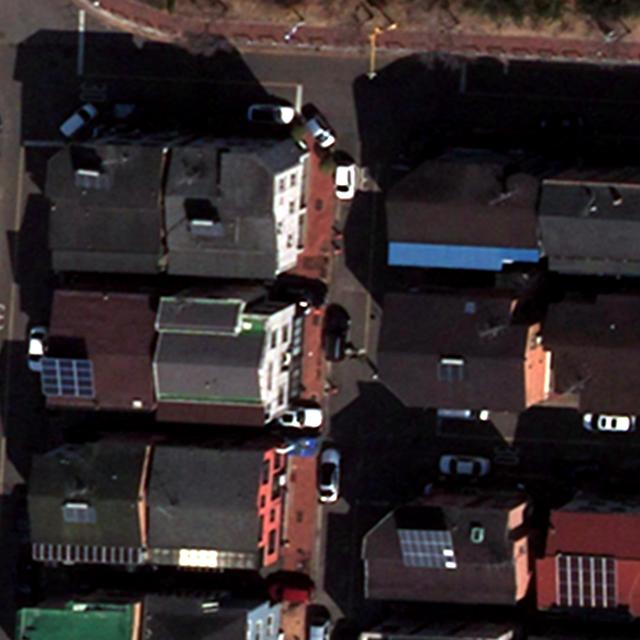panel: (554, 553, 618, 607), (391, 527, 455, 570), (37, 358, 97, 398)
